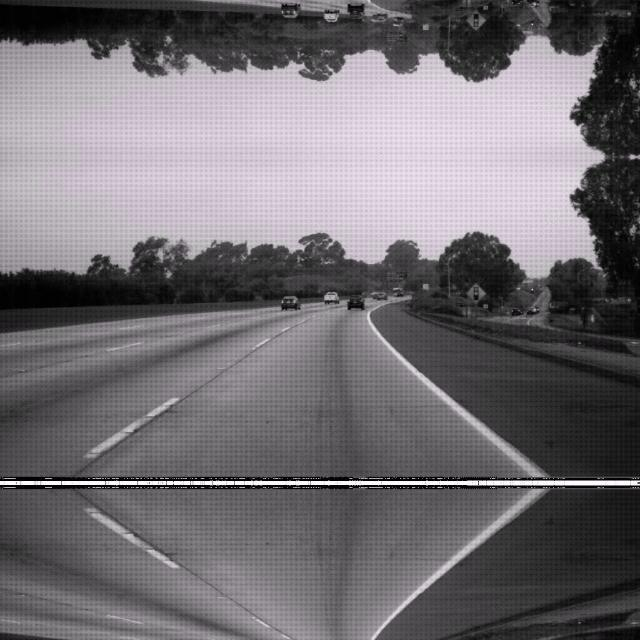signalAhead: (464, 282, 486, 302), (464, 10, 486, 30)
